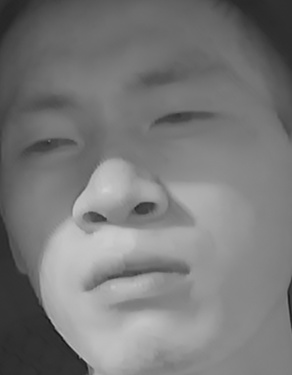eye: (143, 99, 214, 137), (19, 127, 80, 171)
mouth: (78, 251, 196, 314)
